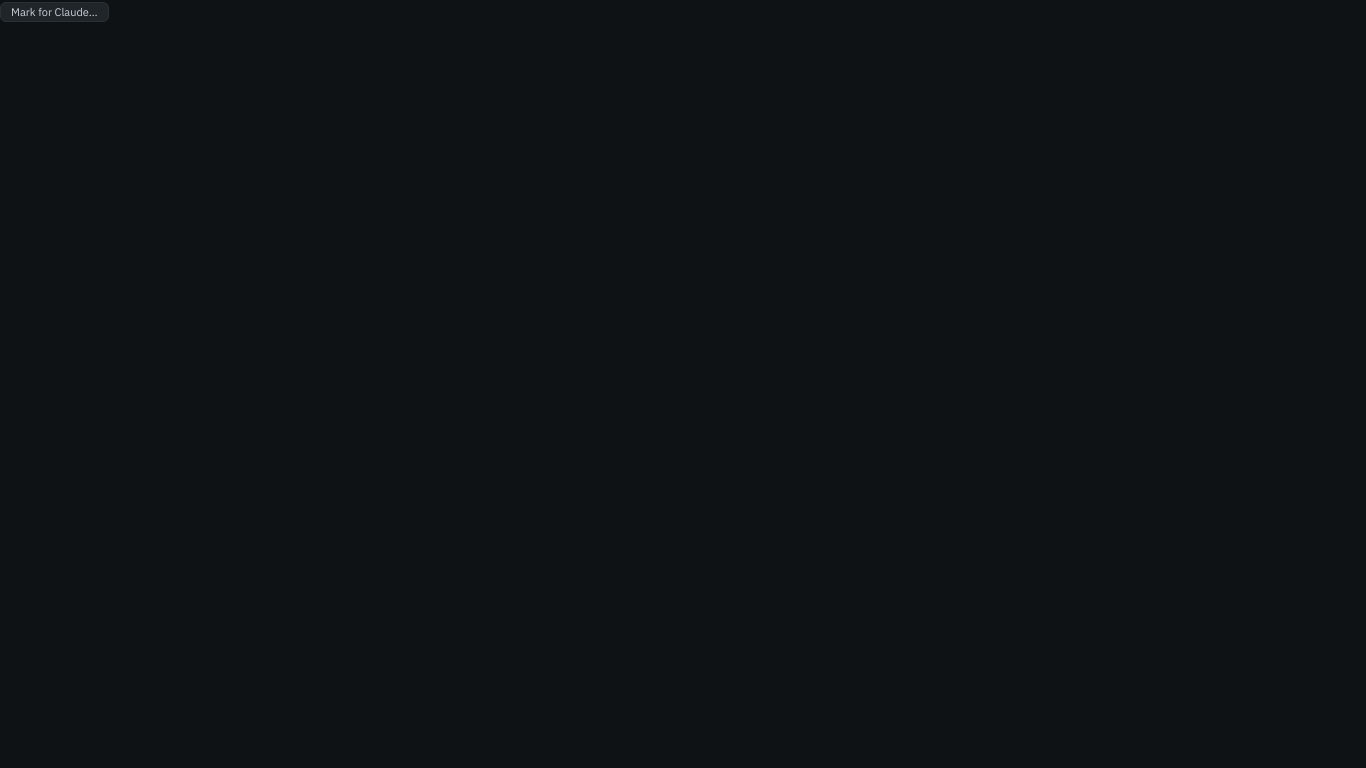
it: Mark for Claude (D16) › without the flight's local time, the window is its offsets into the flight
The width and height of the screenshot is (1366, 768).
Click the button with test id "mark-open" at coordinates (54, 12), box [0, 2, 108, 22]
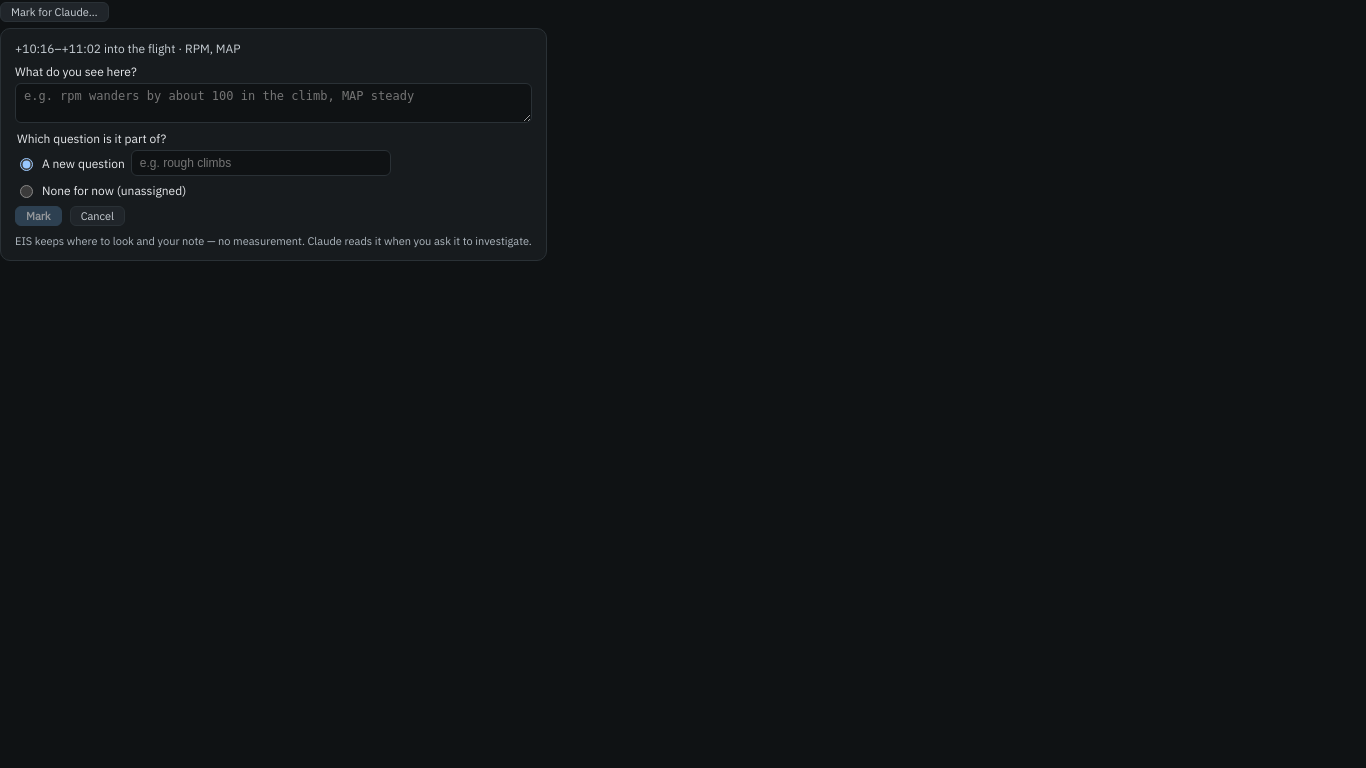
Now the dialog with test id "mark-dialog" is shown, box [0, 28, 547, 261]
Now the text with test id "mark-window" reads "+10:16–+11:02 into the flight · RPM, MAP", box [15, 41, 240, 56]
